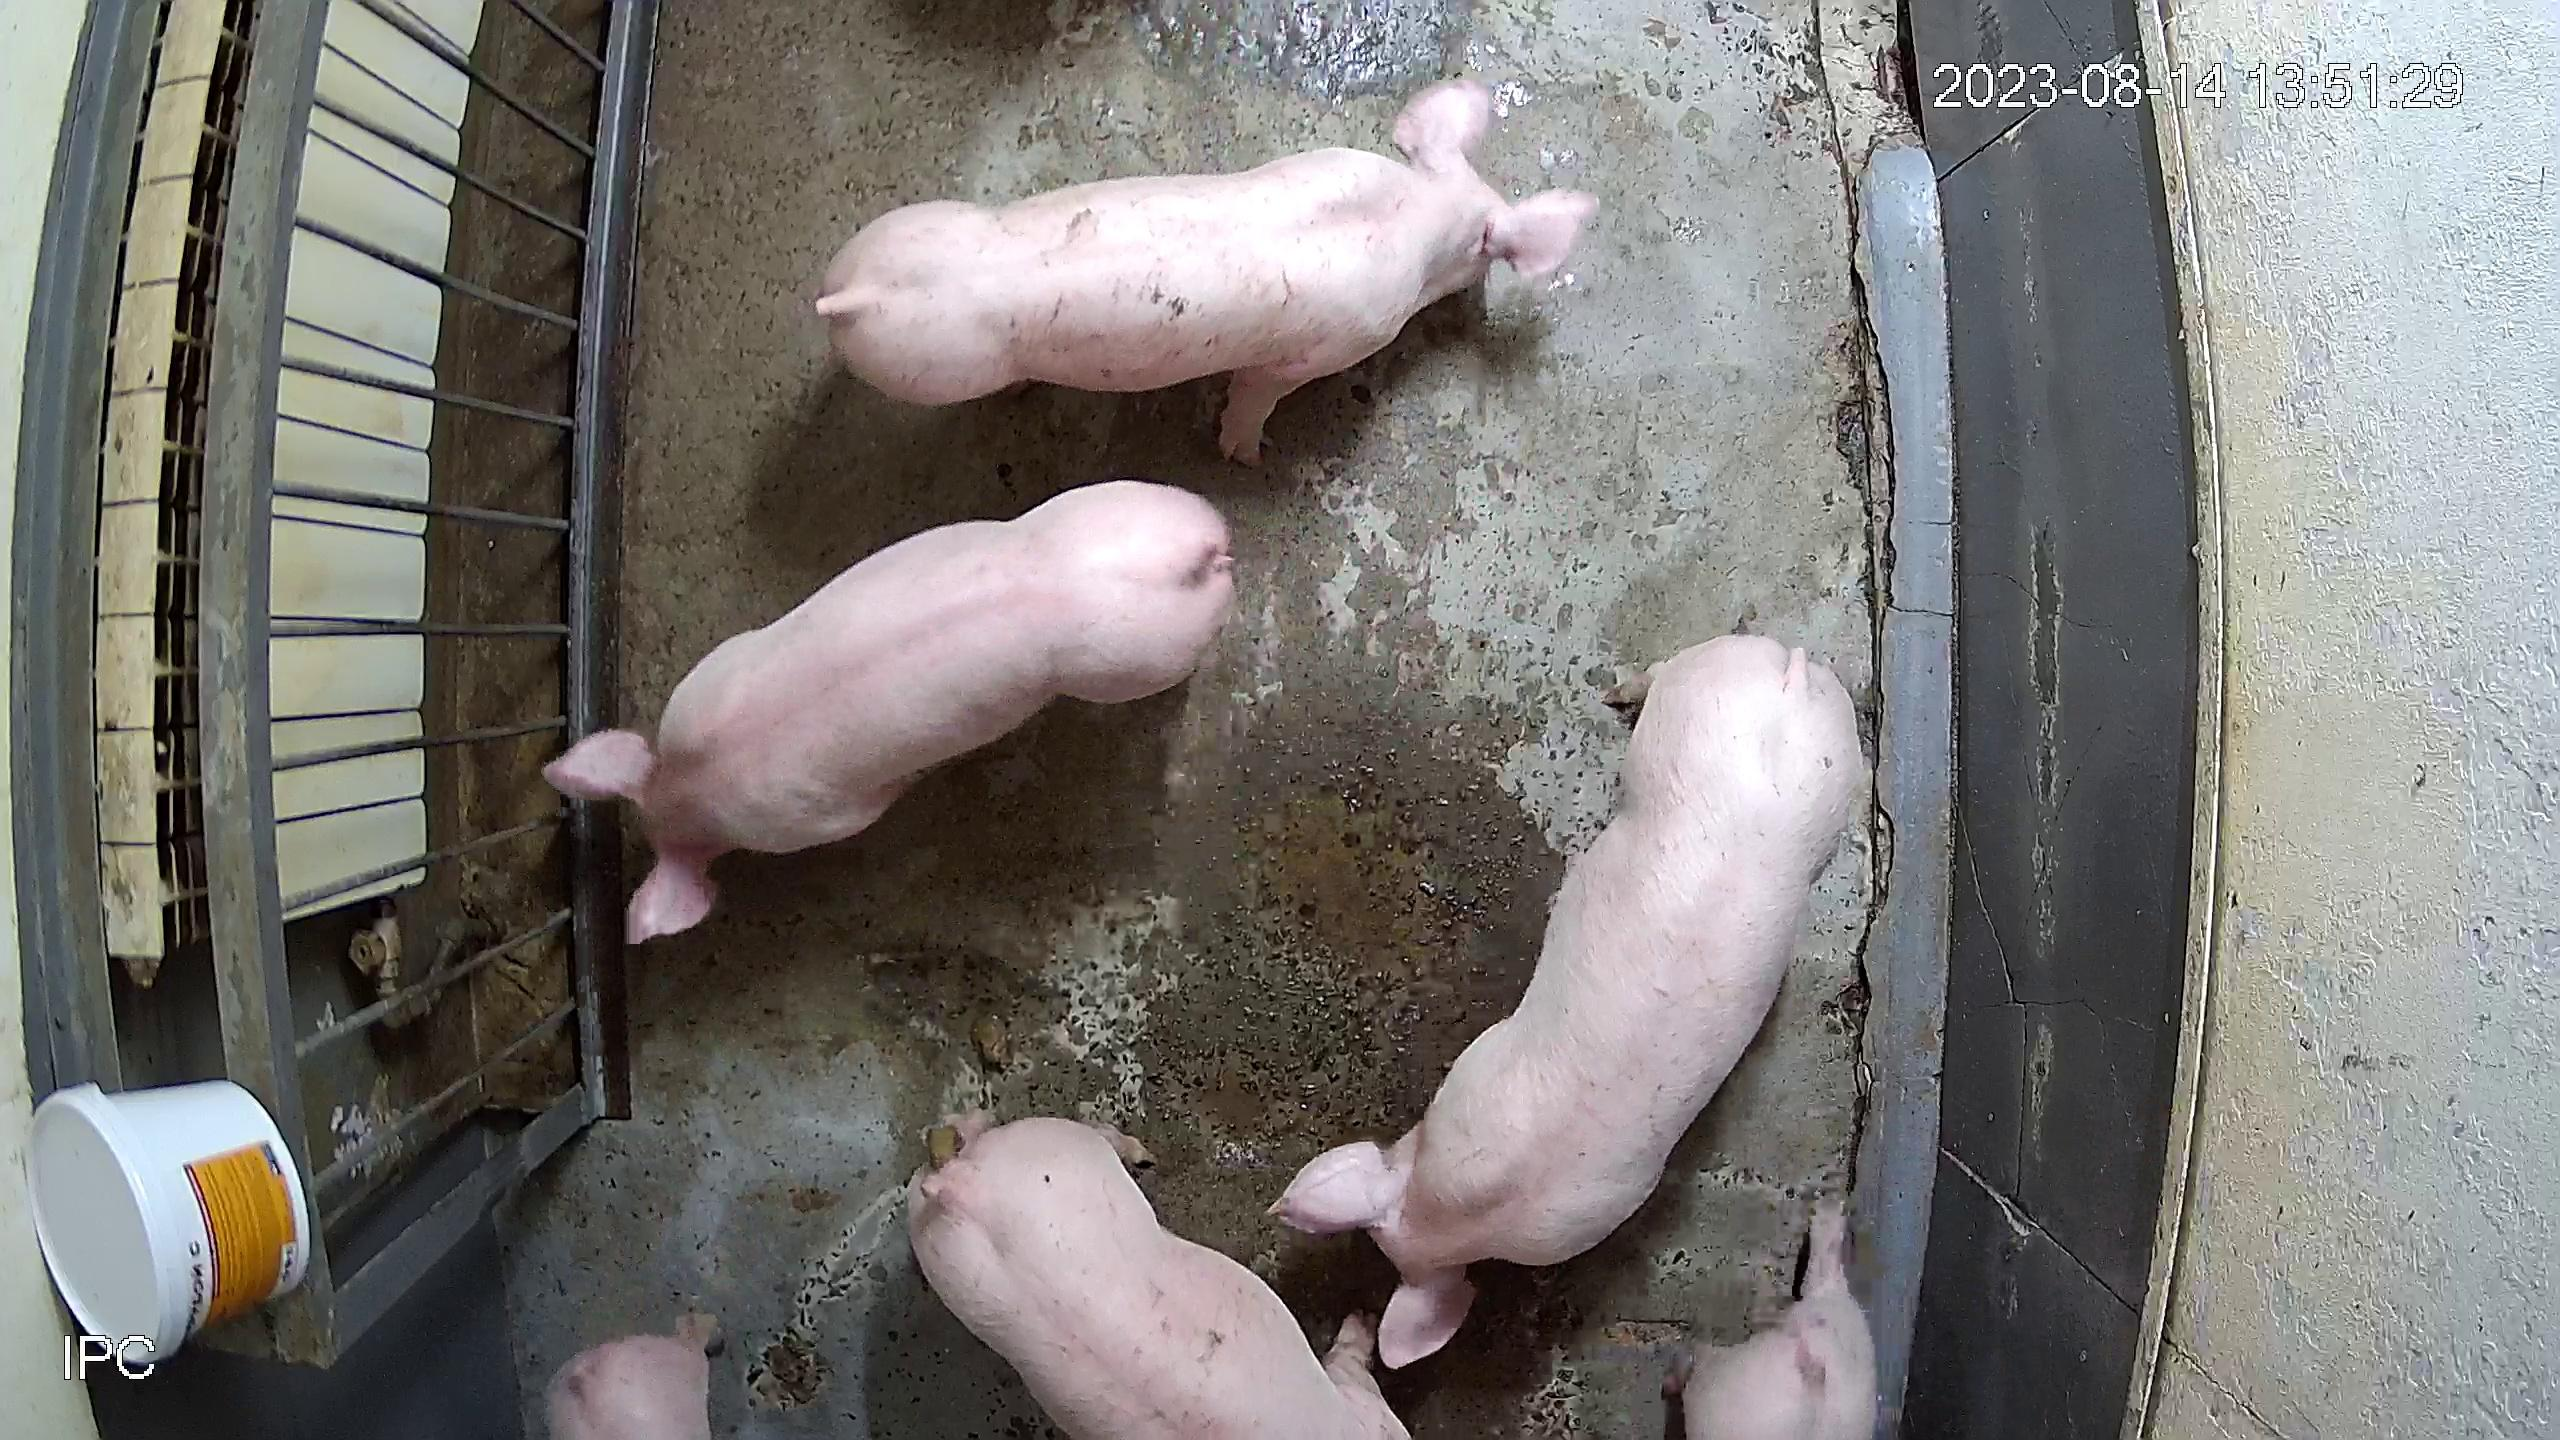Pig: (1271, 635, 1865, 1368), (542, 478, 1234, 942), (816, 76, 1596, 461), (907, 1116, 1407, 1440), (1676, 1199, 1880, 1440), (543, 1315, 714, 1440)
